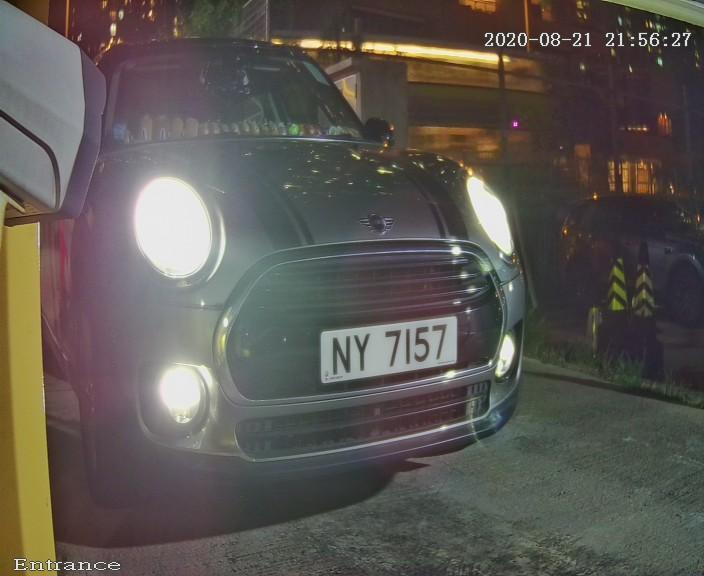Car: (19, 13, 551, 517)
License Plate: (305, 317, 462, 386)
